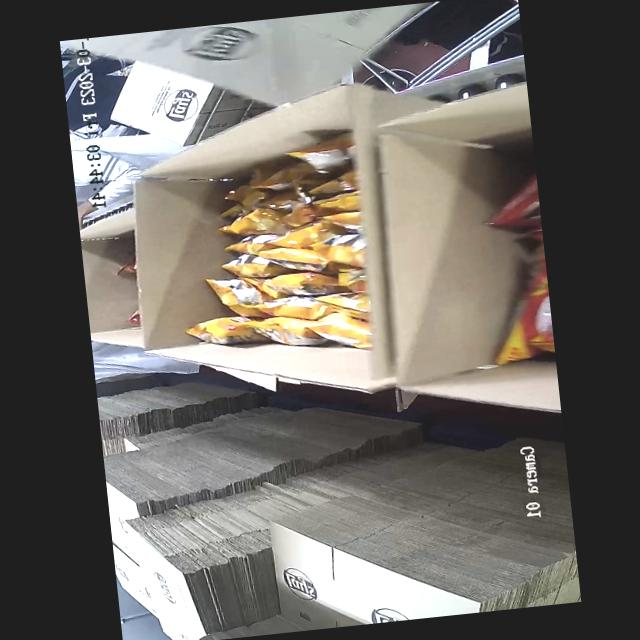cheese: (210, 154, 377, 358)
masala: (468, 146, 556, 372)
